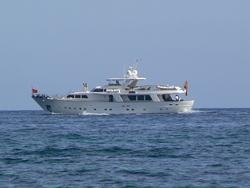yacht: (31, 56, 195, 114)
